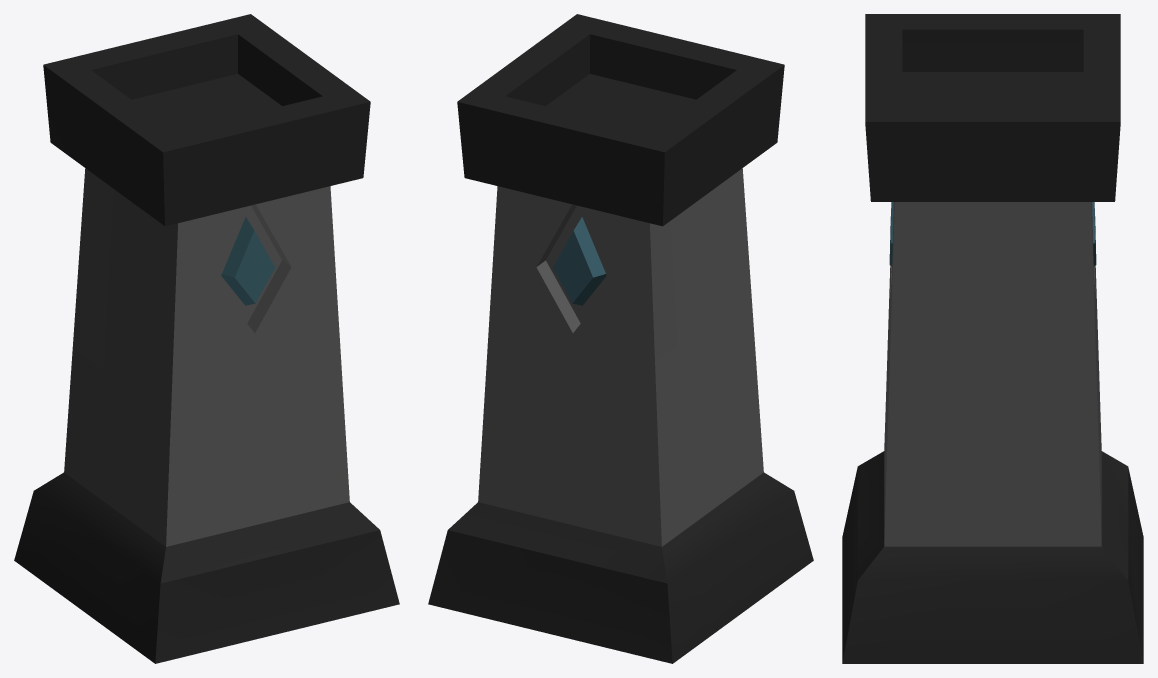
The model's file is Altar_square_C.fbx.
The picture shows the model from 3 angles, left to right: view 1: azimuth 30°, elevation 25°; view 2: azimuth 150°, elevation 25°; view 3: azimuth 270°, elevation 25°; orthographic projection. The views are drawn at different scales.
Parts seen in each view (by area): view 1: Altar_square_C; view 2: Altar_square_C; view 3: Altar_square_C.
Boxes of the visible parts, left/top/right/bottom form: Altar_square_C: left=14, top=14, right=399, bottom=663; Altar_square_C: left=428, top=14, right=813, bottom=663; Altar_square_C: left=842, top=14, right=1143, bottom=663.
Bounding box in the file's own units: 50.58 × 98.67 × 50.58.
